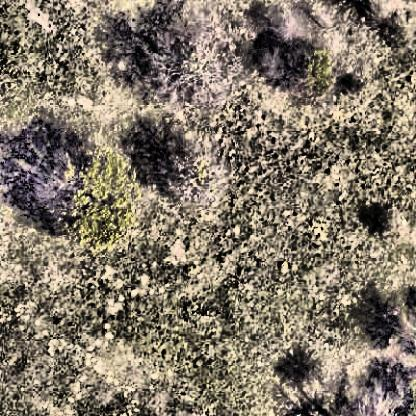tree-top: (38, 146, 138, 245), (142, 23, 242, 114), (146, 118, 237, 208), (275, 33, 352, 108), (345, 382, 416, 416), (361, 195, 407, 242)
